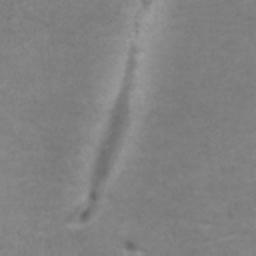Finishing roll printing: (79, 0, 152, 222), (125, 241, 137, 251)
